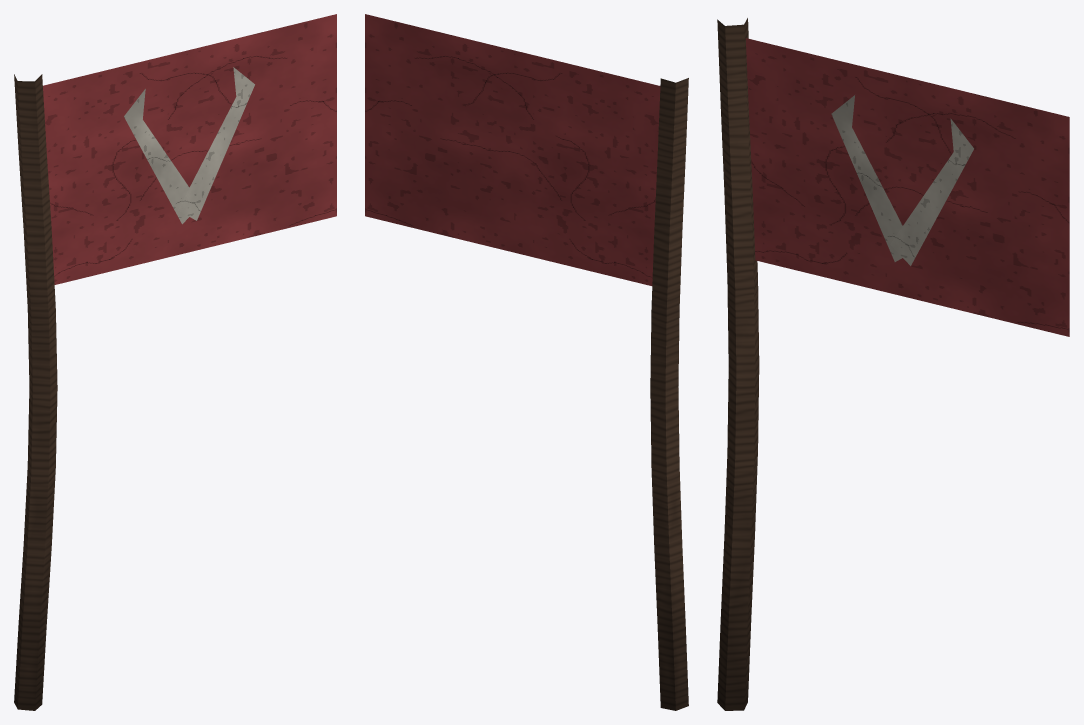
File: flag_prieurs.glb
The picture shows the model from 3 angles, left to right: view 1: azimuth 30°, elevation 25°; view 2: azimuth 150°, elevation 25°; view 3: azimuth 330°, elevation 25°; orthographic projection. The views are drawn at different scales.
Parts seen in each view (by area): view 1: flag_prieurs, group_2; view 2: flag_prieurs; view 3: flag_prieurs, group_2.
Part boxes in pixels (x1,y1,x2,y2): flag_prieurs: [14, 14, 336, 710]; group_2: [124, 67, 254, 224]; flag_prieurs: [365, 14, 688, 710]; flag_prieurs: [717, 18, 1069, 710]; group_2: [831, 95, 973, 265].
Bounding box in the file's own units: 7.49 × 14.03 × 0.6427.
3 materials, 3 textured.
